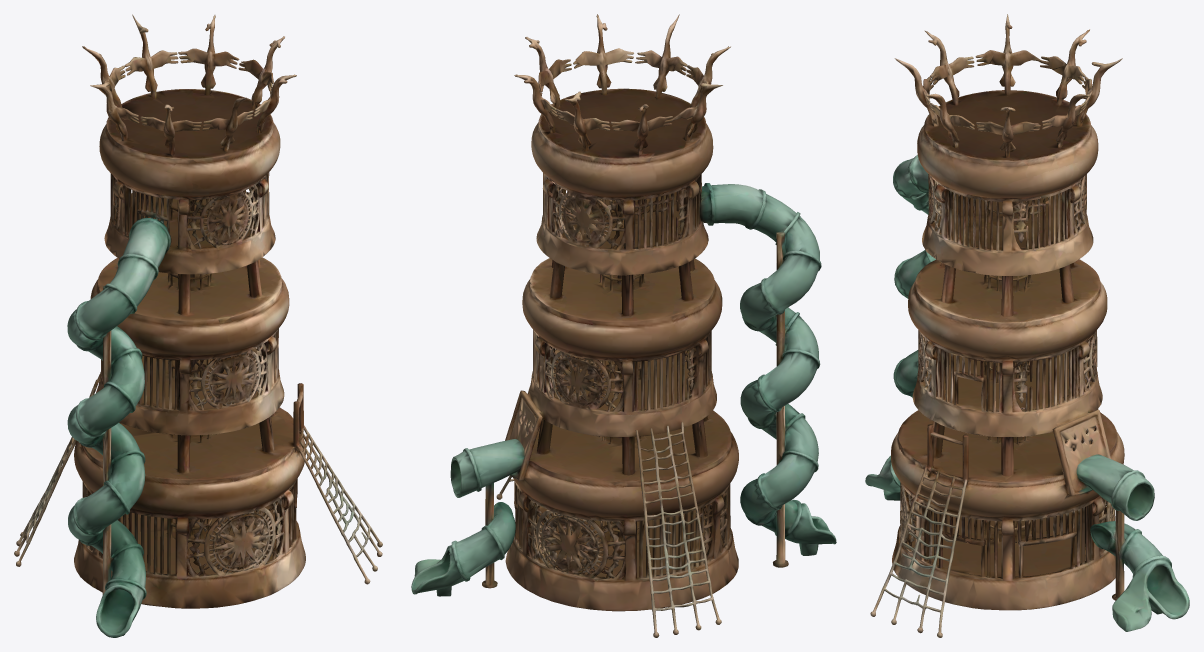
The model's file is drum.glb.
The picture shows the model from 3 angles, left to right: view 1: azimuth 30°, elevation 25°; view 2: azimuth 150°, elevation 25°; view 3: azimuth 270°, elevation 25°; orthographic projection.
Parts seen in each view (by area): view 1: tripo_node_a2400ed4-3729-48f9-bb25-0938ba28ebd1; view 2: tripo_node_a2400ed4-3729-48f9-bb25-0938ba28ebd1; view 3: tripo_node_a2400ed4-3729-48f9-bb25-0938ba28ebd1.
Part boxes in pixels (x1,y1,x2,y2): tripo_node_a2400ed4-3729-48f9-bb25-0938ba28ebd1: (14,14,382,637); tripo_node_a2400ed4-3729-48f9-bb25-0938ba28ebd1: (411,14,836,637); tripo_node_a2400ed4-3729-48f9-bb25-0938ba28ebd1: (865,14,1189,637).
Size of the model in its own units: 0.6393 by 0.9839 by 0.5725.
1 material, 1 textured.
